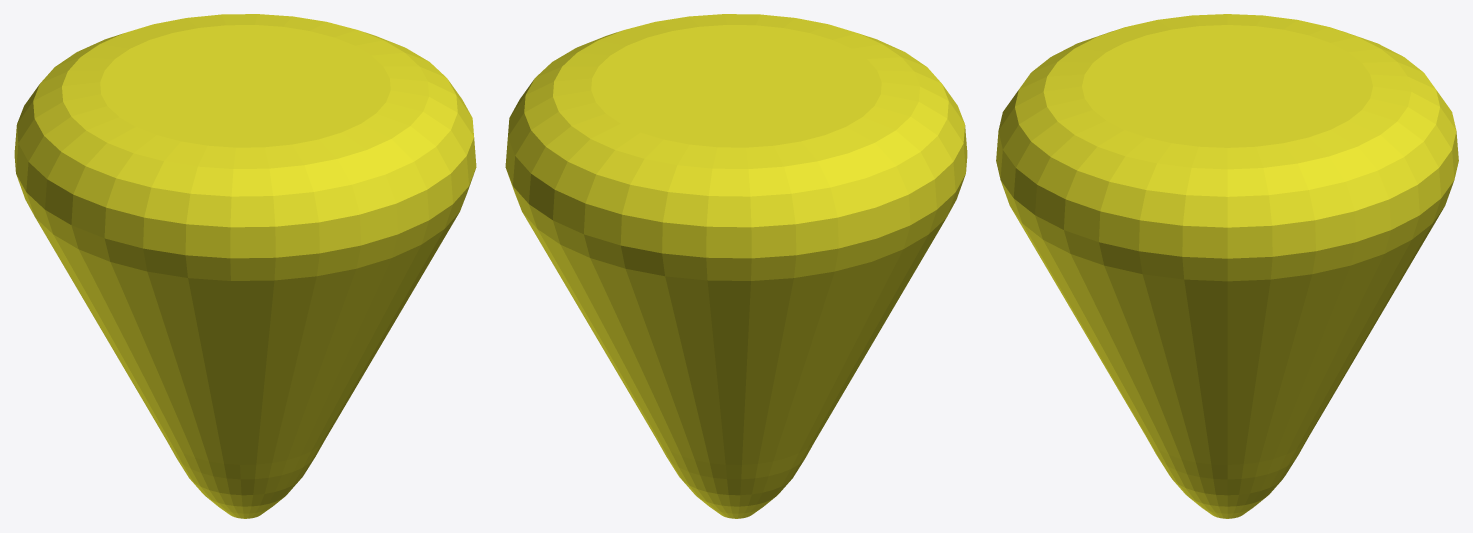
Rendered from Cursor1.glb.
The picture shows the model from 3 angles, left to right: view 1: azimuth 30°, elevation 25°; view 2: azimuth 150°, elevation 25°; view 3: azimuth 270°, elevation 25°; orthographic projection.
Visible parts, largest first — view 1: Cone; view 2: Cone; view 3: Cone.
Boxes of the visible parts, x1=… form: Cone: x1=14, y1=14, x2=476, y2=518; Cone: x1=505, y1=14, x2=967, y2=518; Cone: x1=996, y1=14, x2=1458, y2=518.
Bounding box in the file's own units: 0.5086 × 0.5244 × 0.5086.
